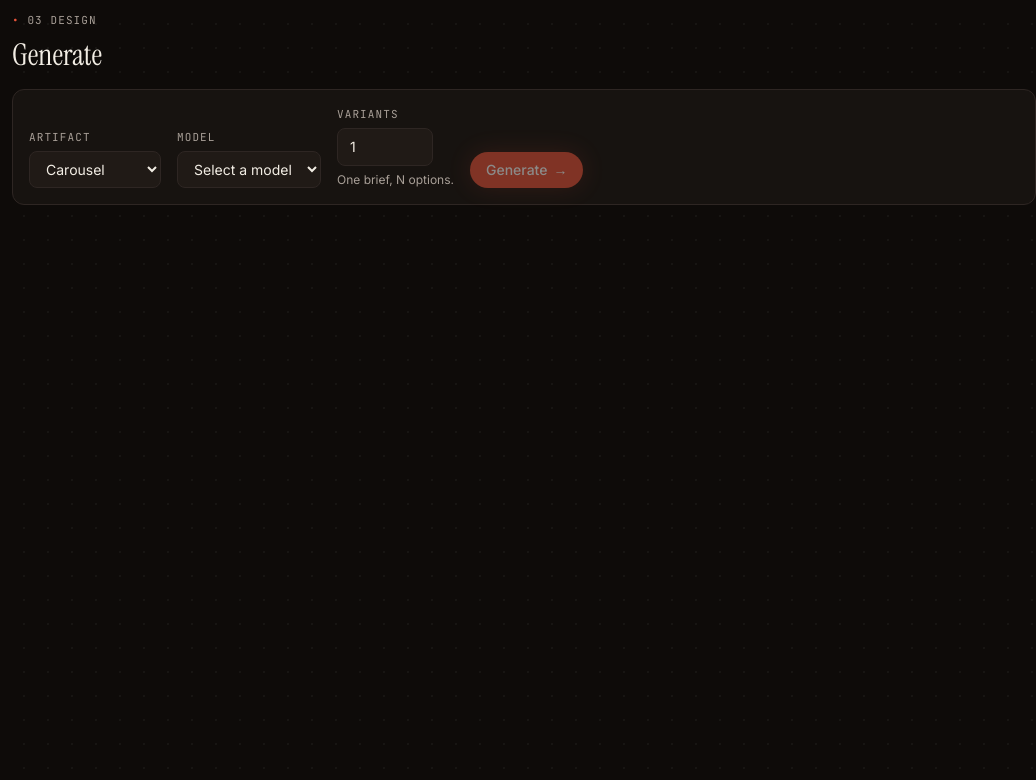
Test: GenerateForm › keeps an inline progress list for variants and offers only matching providers
The image size is (1036, 780).
Select "Image" in the dropdown labelled "Artifact". click: (95, 170)
box: [29,151,161,188]
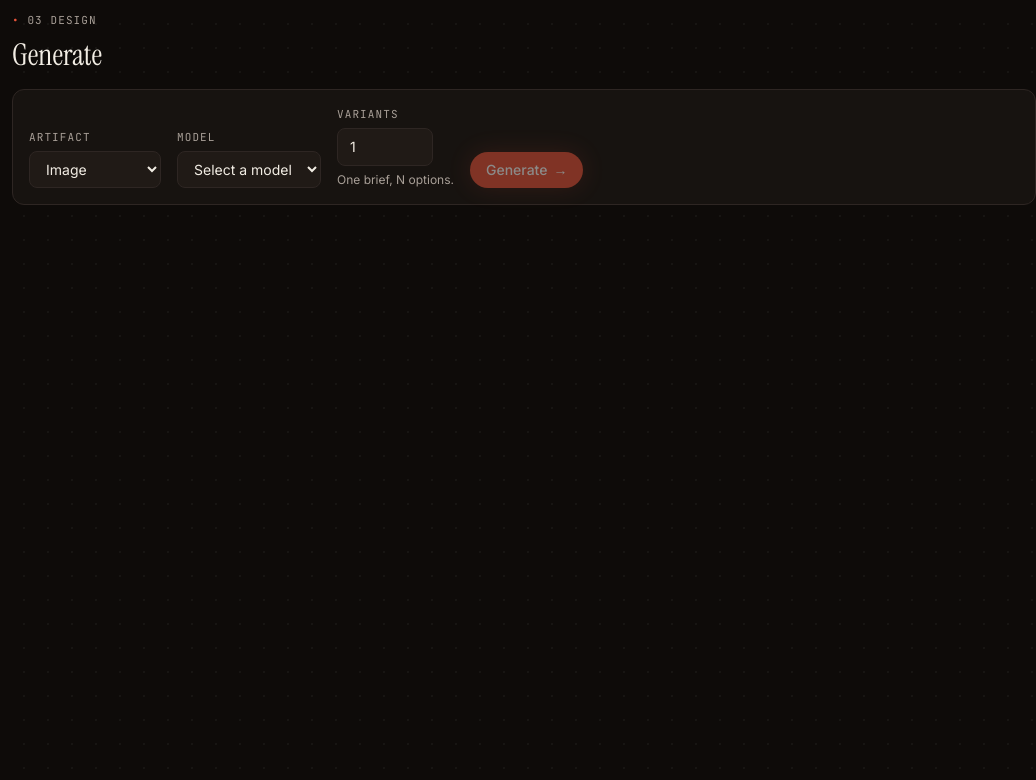
Expected: the option "claude" is not shown
Select "Carousel" in the dropdown labelled "Artifact". click: (95, 170)
box: [29,151,161,188]
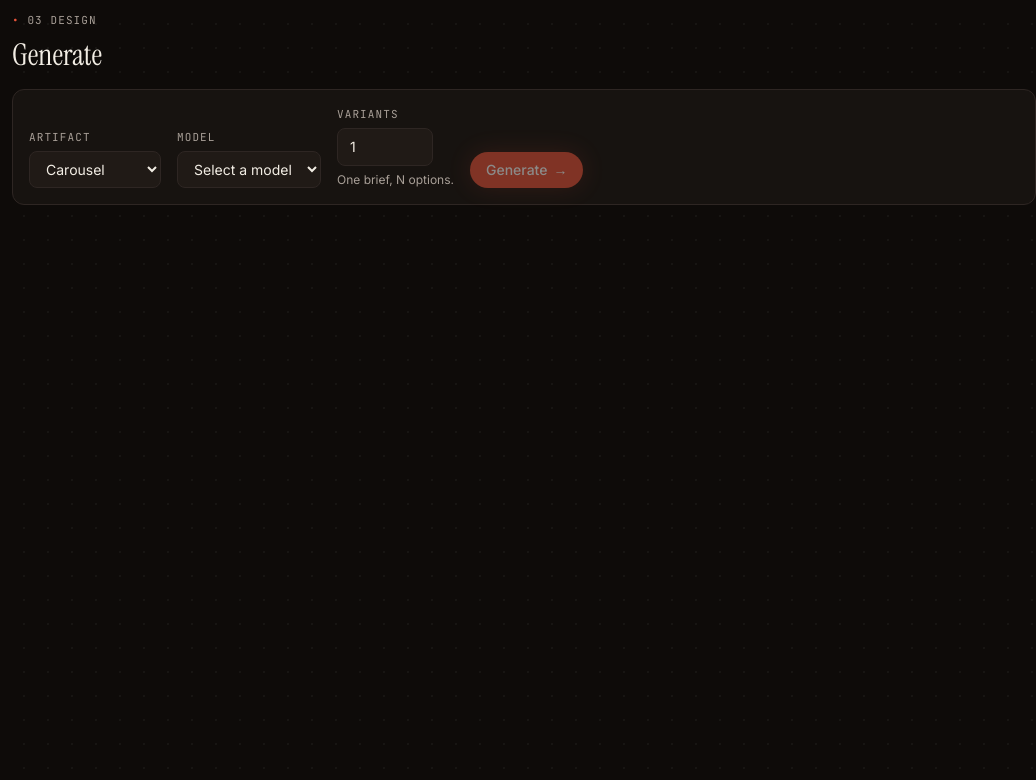
Select "claude" in the dropdown labelled "Model". click: (249, 170)
box: [177,151,321,188]
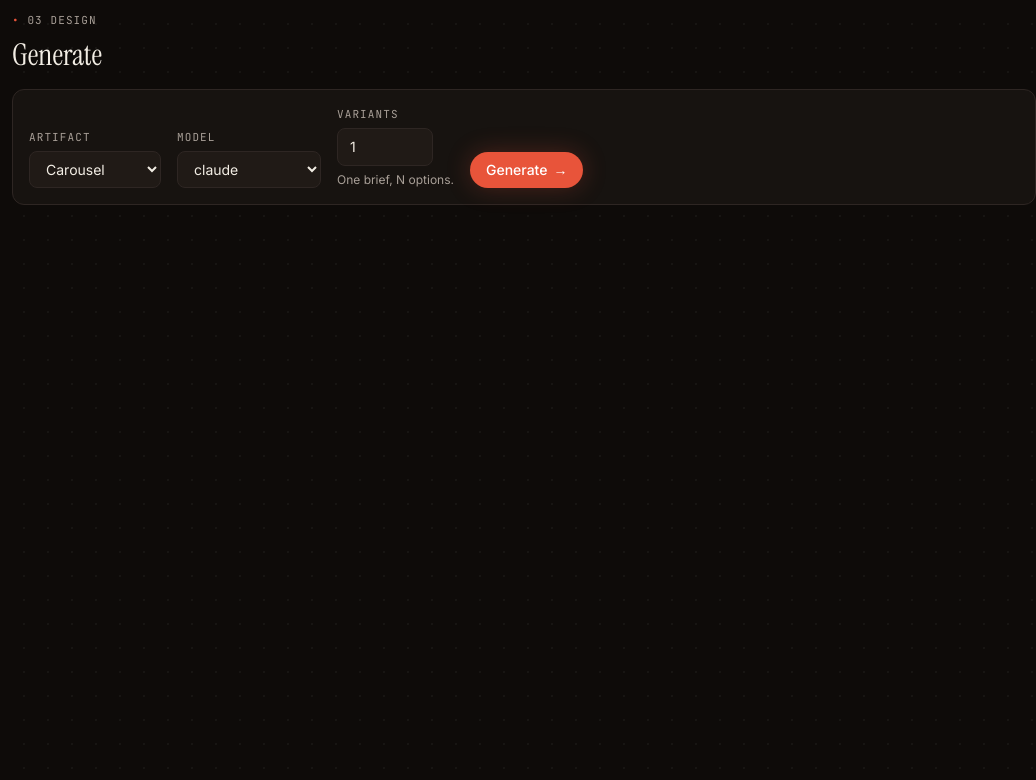
Replace the text in the number field labelled "Variants One brief, N options." with "2". click: (385, 147)
box: [337,128,433,166]
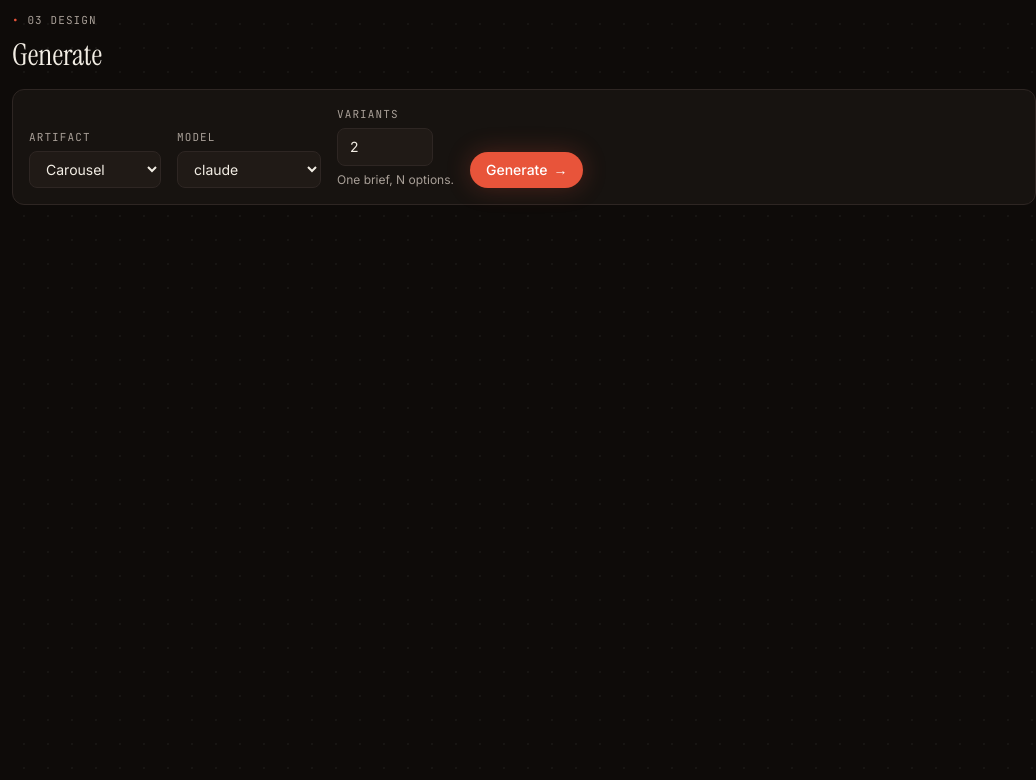
Click the button "Generate →". click: click(527, 170)
box: [470,152,584,188]
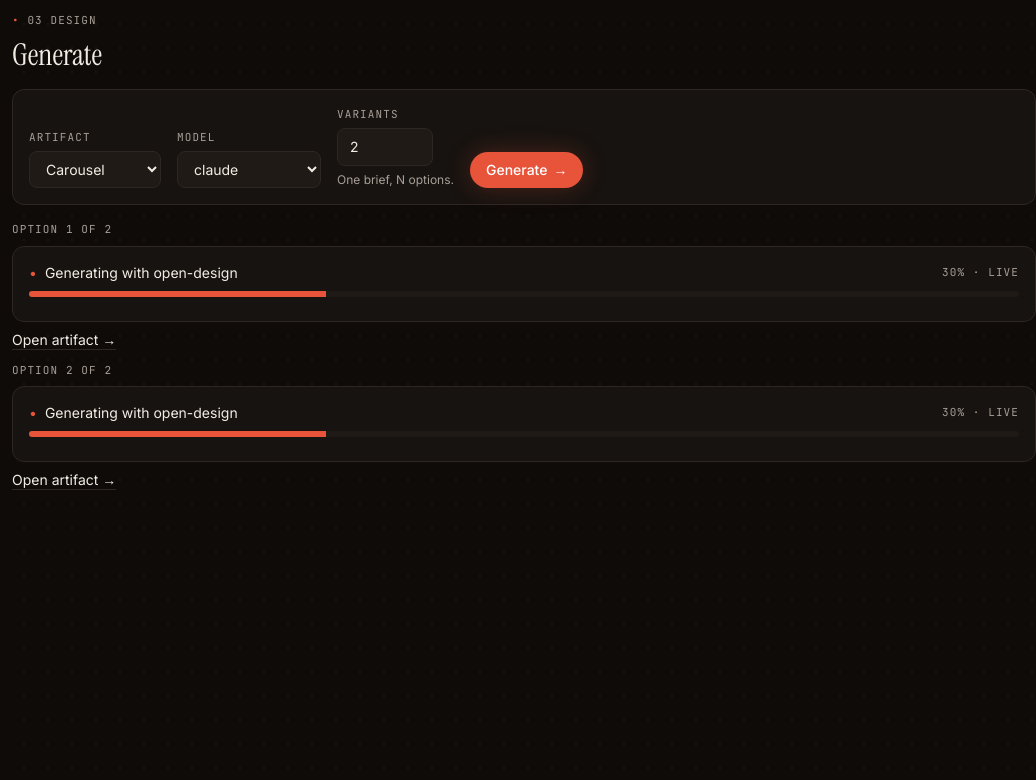
Result: the number of links "Open artifact →" is 2 at [12,330,116,350]; [12,470,116,490]
